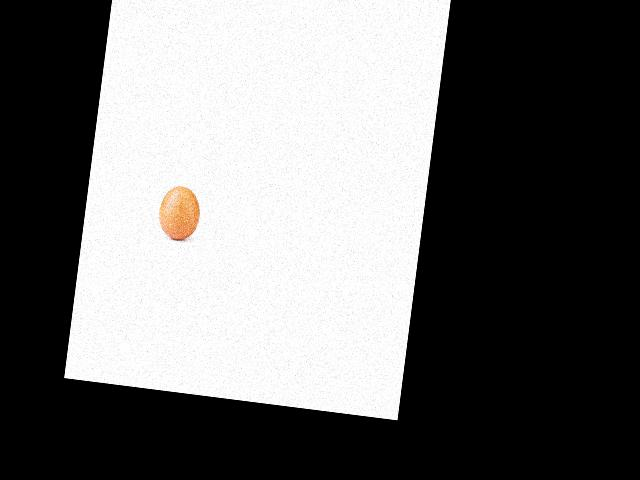egg: (156, 184, 203, 241)
